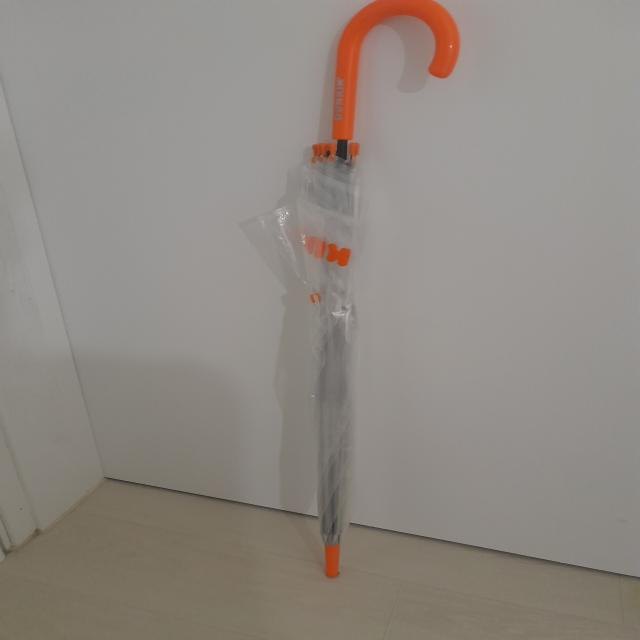umbrella: (259, 0, 461, 578)
